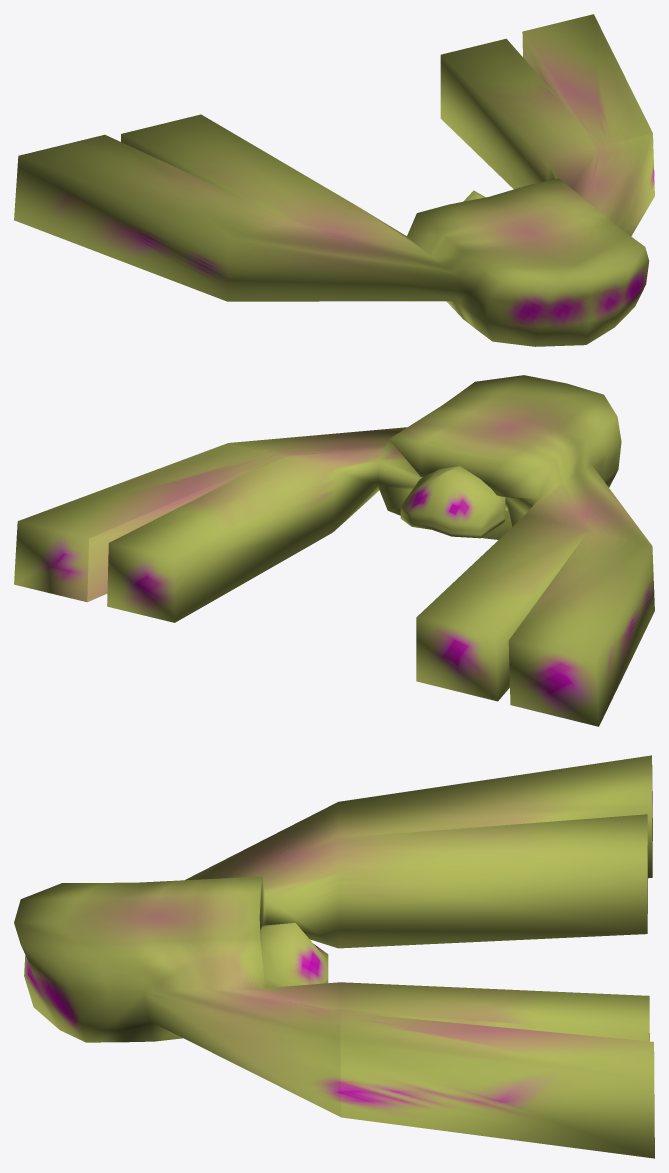
Rendered from wooly_chionoescent.glb.
3 views of the same model, one above another, from view 1: azimuth 30°, elevation 25°; view 2: azimuth 150°, elevation 25°; view 3: azimuth 270°, elevation 25° (orthographic). The views are drawn at different scales.
Visible parts, largest first — view 1: Cube.001; view 2: Cube.001; view 3: Cube.001.
Boxes of the visible parts, left/top/right/bottom form: Cube.001: left=14, top=14, right=654, bottom=346; Cube.001: left=14, top=375, right=654, bottom=726; Cube.001: left=14, top=755, right=654, bottom=1158.
Size of the model in its own units: 2.54 by 0.332 by 2.07.
1 material, 1 textured.
